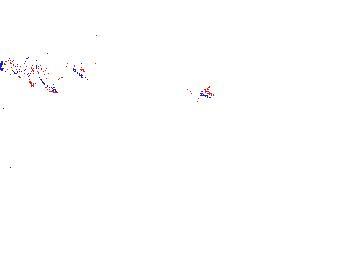redtail glassfish: (1, 53, 94, 82), (159, 80, 213, 114)
